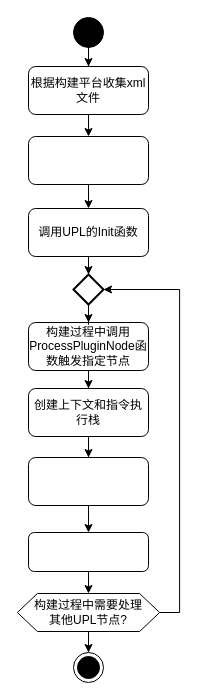
Image size: 206x700. Some labels were removed from this diagram. The centre of each missing label's shape, as x and y in pixels:
创建UPL对象并合并xml文件同名节点内容: the point at 88,160
收集节点中的指令，执行指令循环: the point at 88,481
返回处理结果: the point at 88,552
